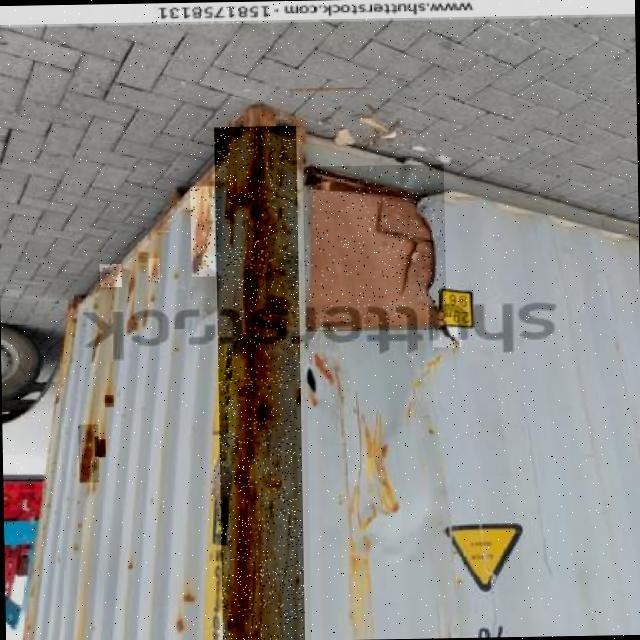Hole: (433, 326, 461, 348), (305, 366, 315, 394)
Rust: (213, 125, 304, 640), (302, 164, 446, 331), (190, 186, 215, 276), (78, 424, 99, 482), (210, 459, 231, 500), (99, 264, 121, 287), (148, 256, 159, 282), (94, 437, 105, 457), (105, 395, 114, 407)
